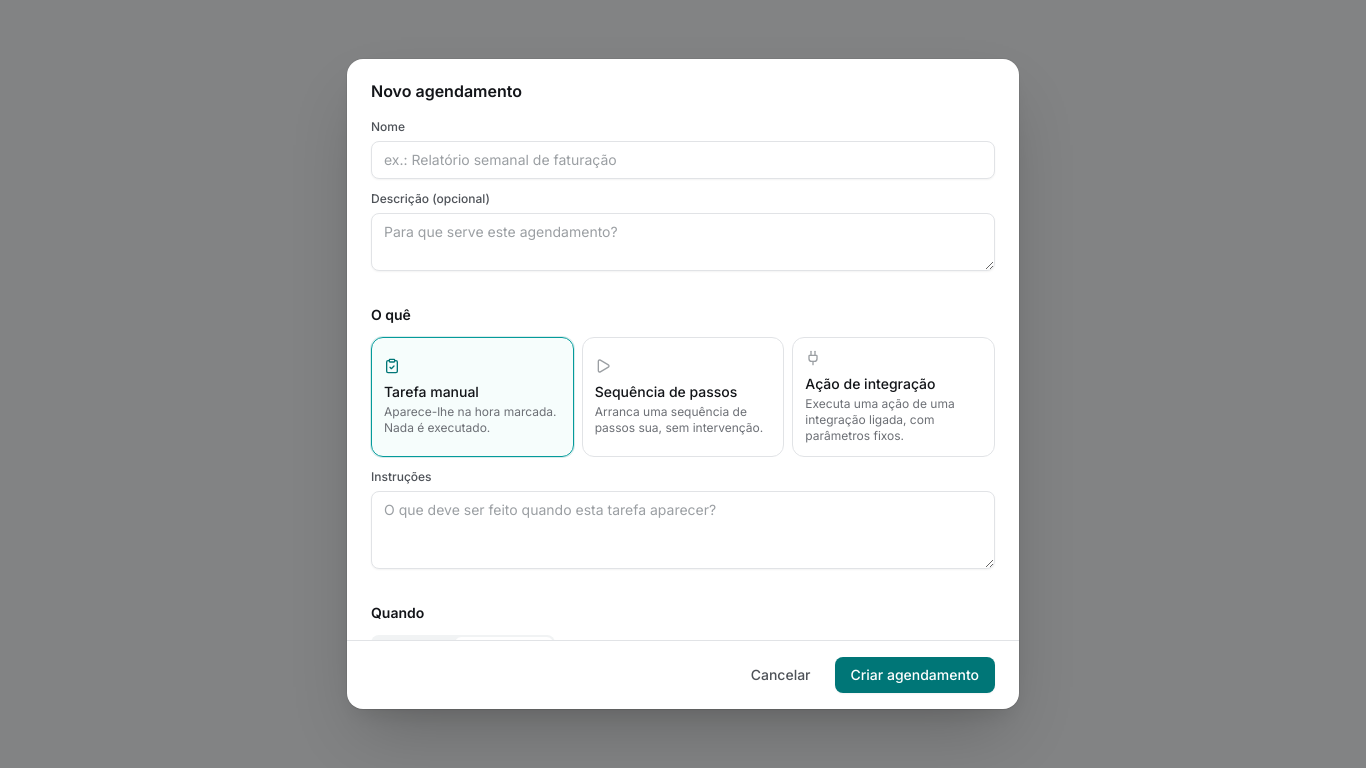
Test case: schedule form validation error › renders beside the submit button, outside the scrolling body
The width and height of the screenshot is (1366, 768).
// Submit with an empty name: the first validation gate, no network involved.
Click the button with test id "schedule-form-submit" at (915, 675), box top-left (834, 657), bottom-right (995, 693)
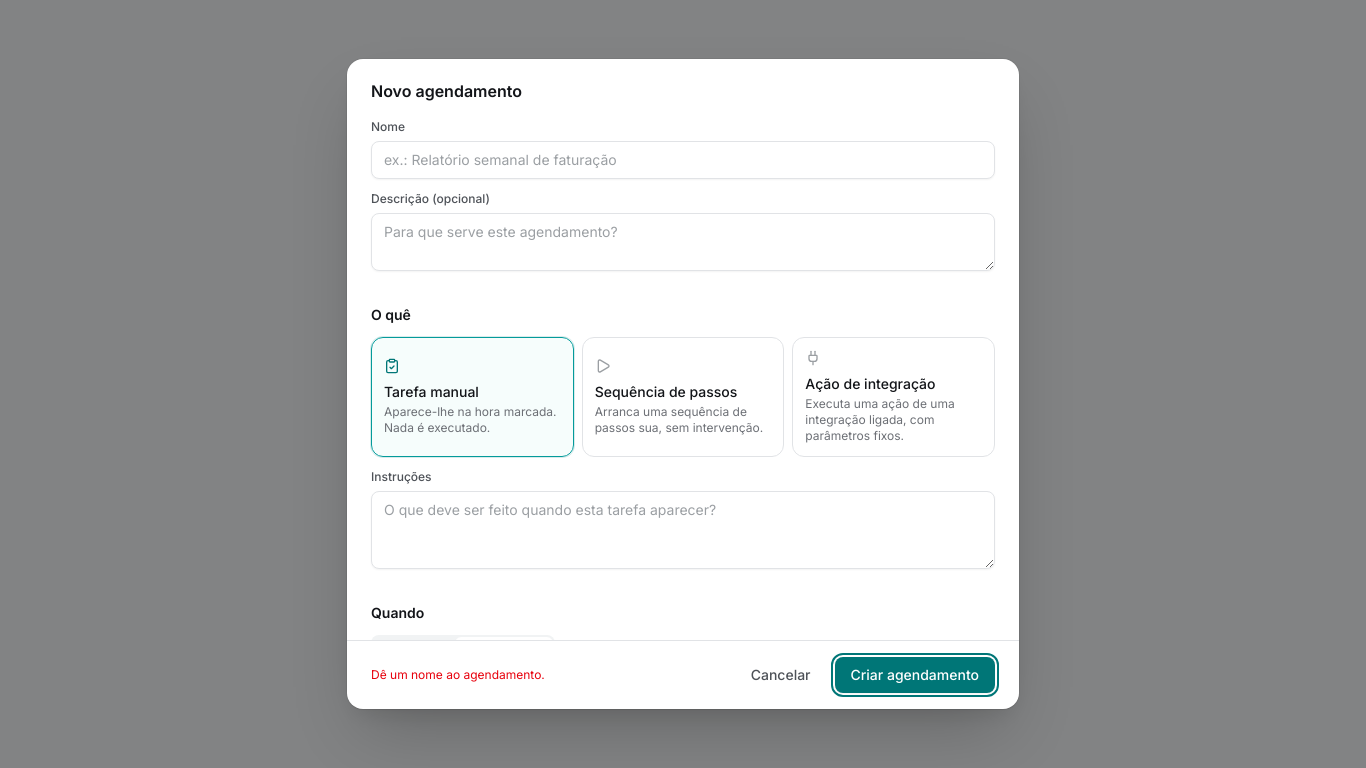
expect the message with test id "schedule-form-error" reads "Dê um nome ao agendamento.": met, box top-left (371, 667), bottom-right (545, 682)
